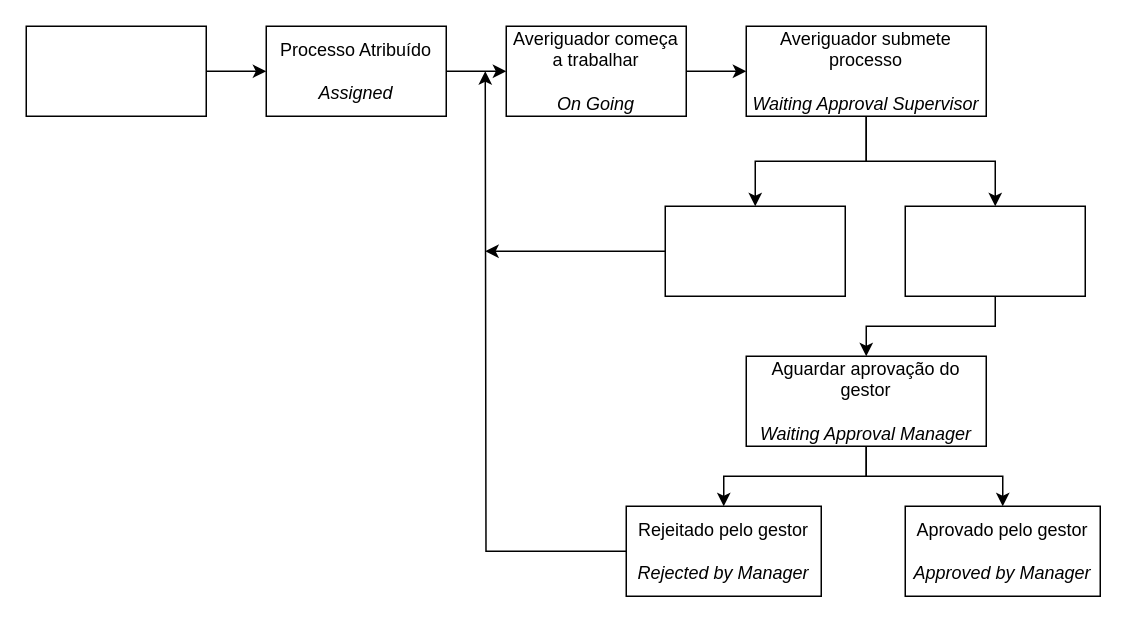
Some shapes in this 1127 by 623 pixel diagram are drawn without their labels. Here are the shapes that lost their labels. From the top down, the box of each, then its label:
(25, 25, 206, 116): Processo Criado Not Assigned
(664, 205, 845, 296): Supervisor rejeita Rejected by Supervisor
(904, 205, 1085, 296): Supervisor aprova Approved by Supervisor
